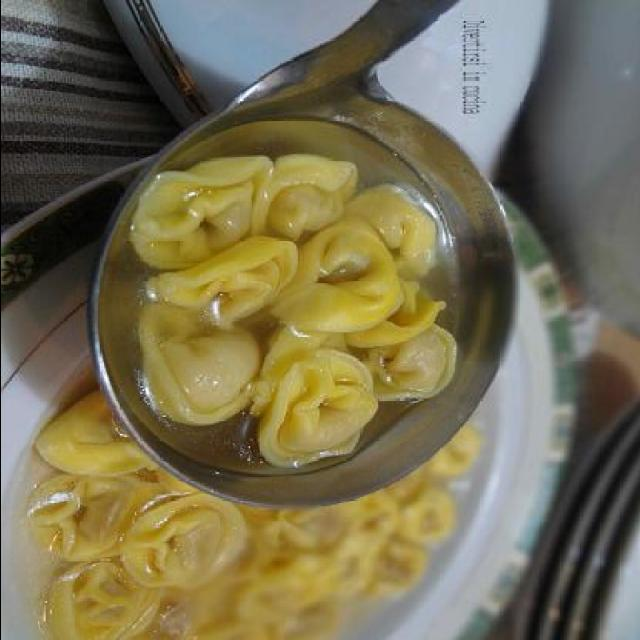Tortellini in broth: (123, 126, 480, 492)
